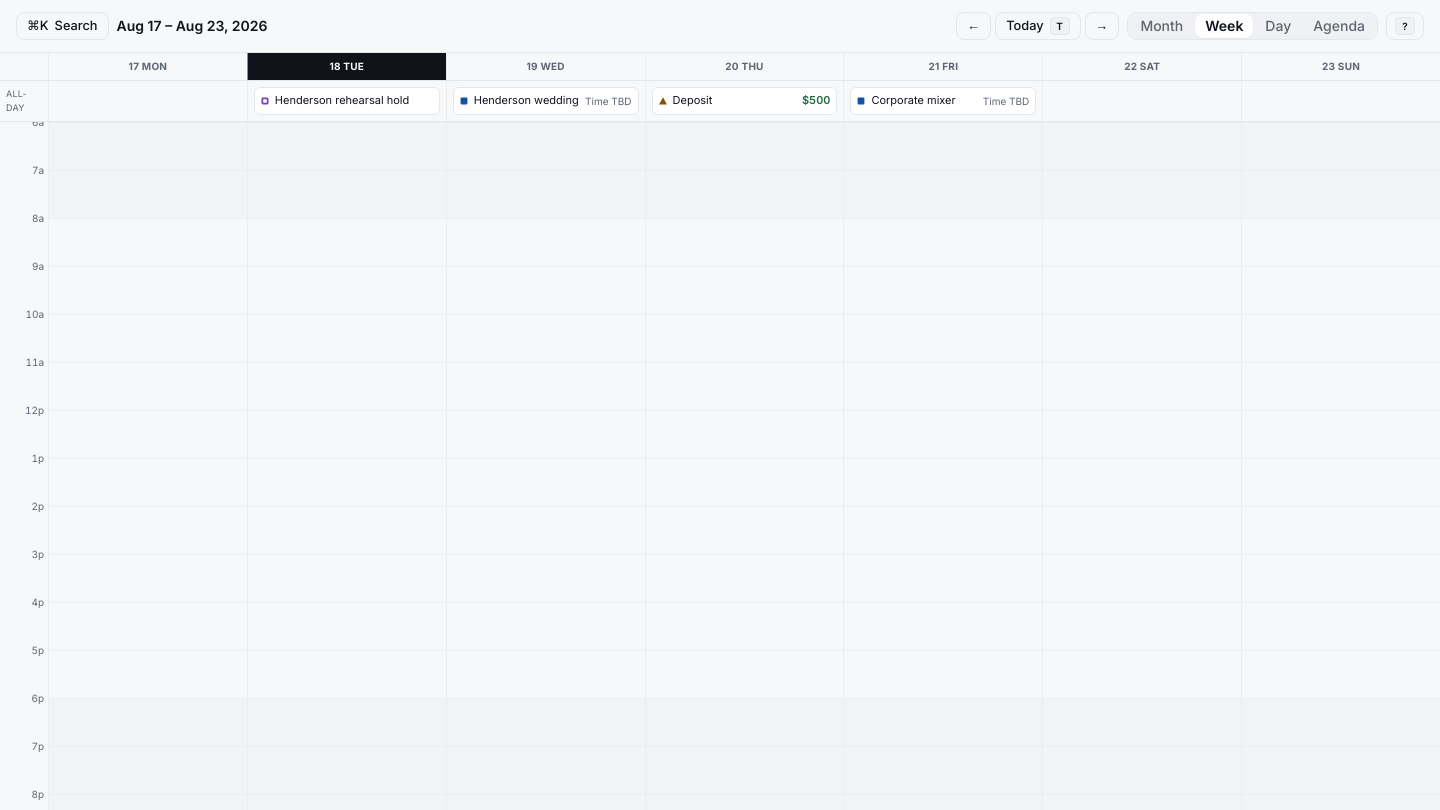
Test: CalendarCanvas — the command palette searches the feed › ANDs the terms, so a two-word query narrows instead of widening
Press k
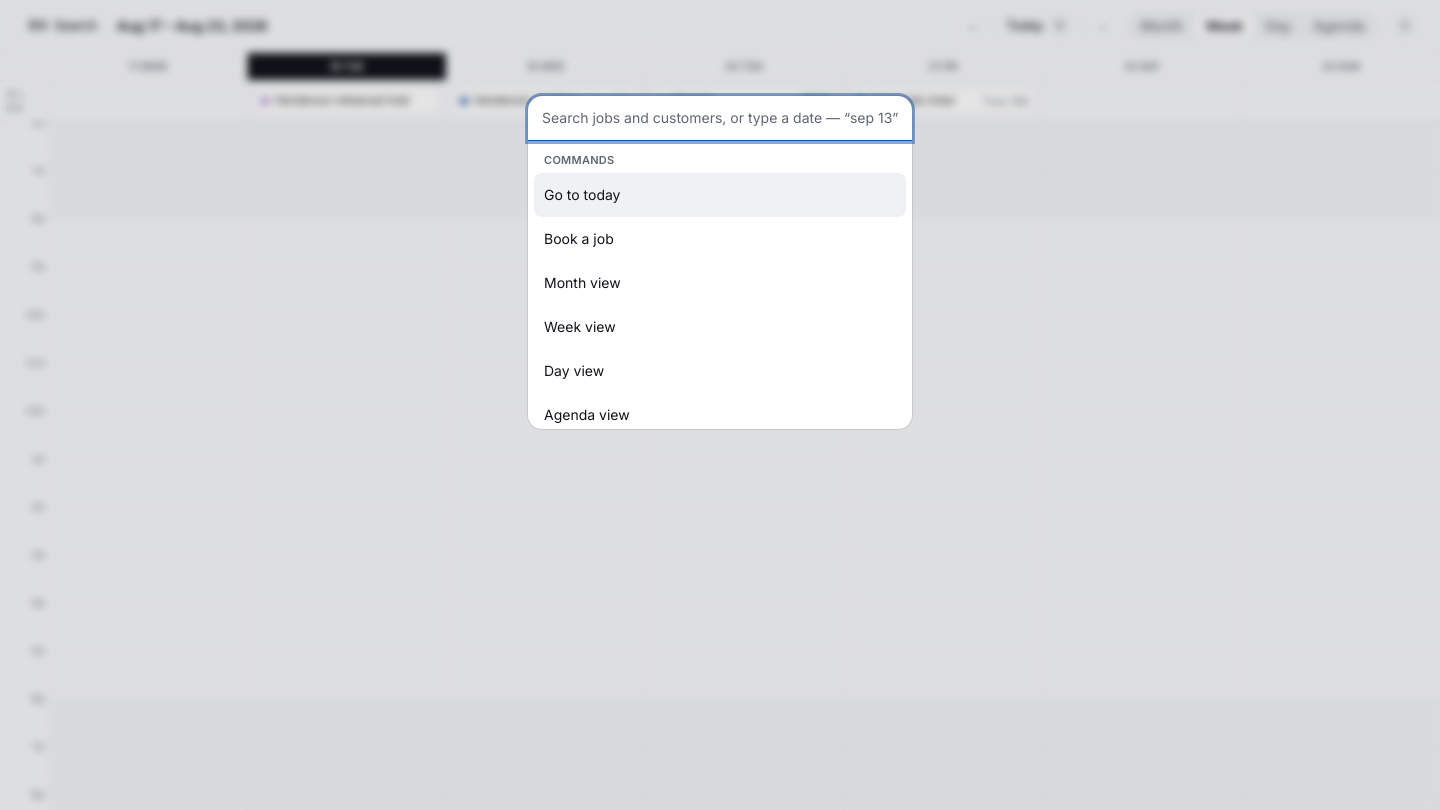
Replace the text in the dropdown with "henderson deposit": point(720, 118) [528,96,912,141]
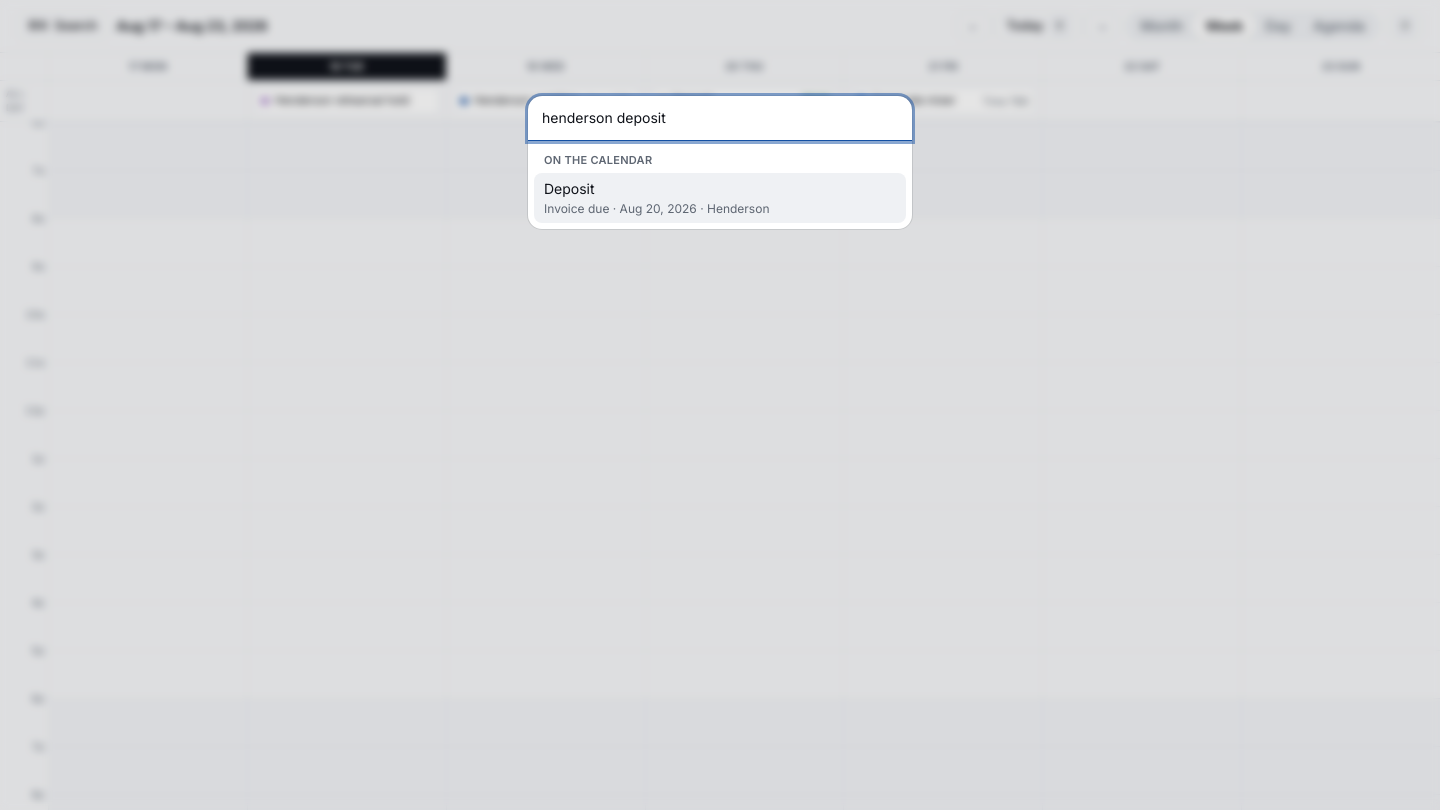
expect the option shows "Deposit": met, box [534,173,906,223]
